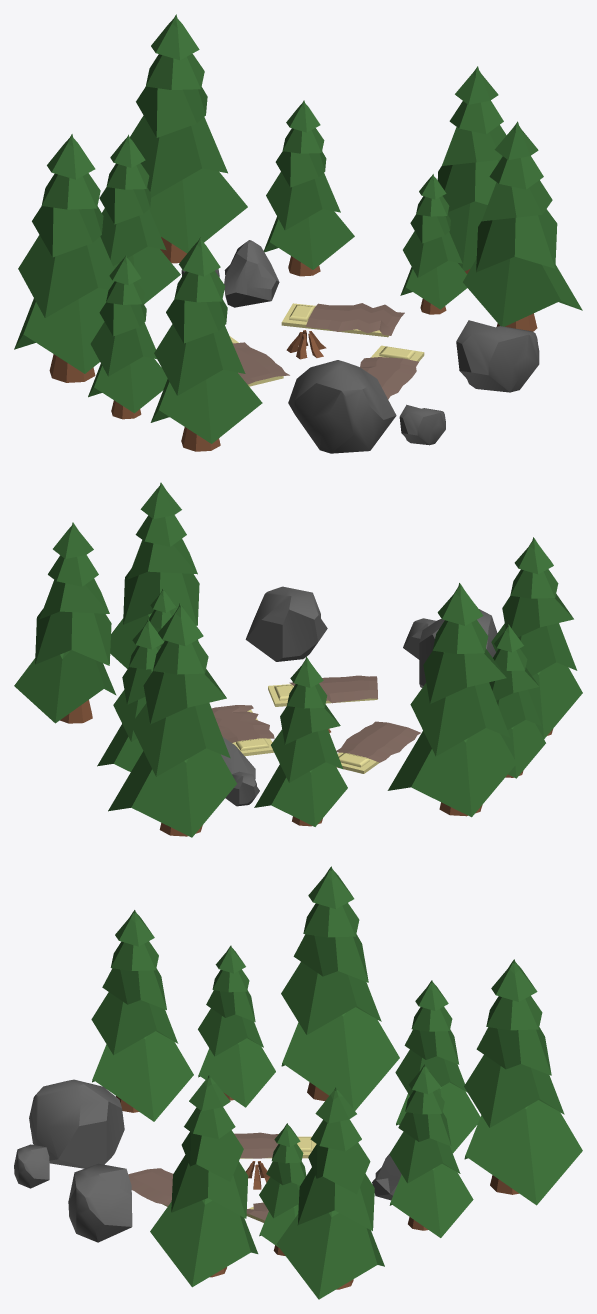
File: BarracksLVL1.fbx
The picture shows the model from 3 angles, top to bottom: view 1: azimuth 30°, elevation 25°; view 2: azimuth 150°, elevation 25°; view 3: azimuth 270°, elevation 25°; orthographic projection. The views are drawn at different scales.
Visible parts, largest first — view 1: ель.007, ель.009, ель.004, ель.002, ель.006, ель.001, ель.005, Cube, ель.008, ель.003, Cube.001, СПАЛЬНИК.001 (+5 smaller); view 2: ель.009, ель.007, ель.001, ель.008, ель.002, ель.004, ель.005, Cube.001, ель.006, СПАЛЬНИК, СПАЛЬНИК.001, СПАЛЬНИК.002 (+5 smaller); view 3: ель.009, ель.007, ель.001, ель.004, ель.002, ель.006, ель.005, Cube, ель.008, Cube.001, ель.003, Cube.003 (+3 smaller).
Part boxes in pixels (x1,y1,x2,y2): ель.007: (14, 134, 114, 382); ель.009: (129, 14, 247, 263); ель.004: (463, 121, 582, 331); ель.002: (150, 237, 262, 451); ель.006: (264, 100, 354, 276); ель.001: (437, 66, 506, 273); ель.005: (88, 255, 167, 419); Cube: (288, 360, 396, 453); ель.008: (99, 134, 180, 304); ель.003: (400, 174, 466, 314); Cube.001: (456, 320, 539, 392); СПАЛЬНИК.001: (281, 303, 404, 337); ель.009: (108, 603, 236, 837); ель.007: (387, 583, 516, 817); ель.001: (14, 522, 116, 723); ель.008: (254, 656, 347, 826); ель.002: (491, 537, 582, 738); ель.004: (110, 482, 199, 668); ель.005: (489, 624, 545, 778); Cube.001: (245, 586, 327, 661); ель.006: (97, 619, 164, 771); СПАЛЬНИК: (336, 721, 420, 773); СПАЛЬНИК.001: (211, 705, 274, 756); СПАЛЬНИК.002: (268, 675, 377, 706); ель.009: (464, 959, 582, 1205); ель.007: (281, 866, 399, 1110); ель.001: (277, 1087, 384, 1299); ель.004: (150, 1075, 258, 1287); ель.002: (91, 910, 193, 1121); ель.006: (389, 1064, 473, 1237); ель.005: (198, 945, 275, 1107); Cube: (29, 1079, 124, 1168); ель.008: (395, 980, 480, 1153); Cube.001: (68, 1163, 132, 1242); ель.003: (259, 1123, 306, 1255); Cube.003: (14, 1144, 49, 1188).
Bounding box in the file's own units: 877 × 392 × 877.
